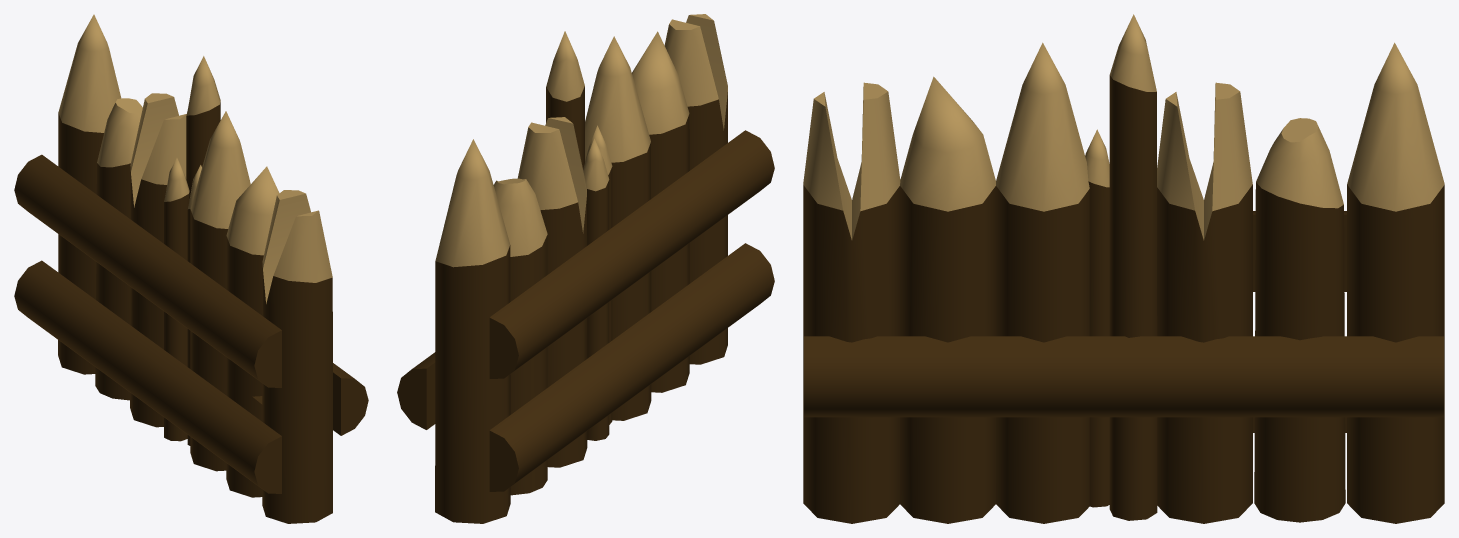
File: SM_GoblinCamp_Fence_Var1.fbx
The picture shows the model from 3 angles, left to right: view 1: azimuth 30°, elevation 25°; view 2: azimuth 150°, elevation 25°; view 3: azimuth 270°, elevation 25°; orthographic projection. The views are drawn at different scales.
Visible parts, largest first — view 1: SM_GoblinCamp_Fence_Var1; view 2: SM_GoblinCamp_Fence_Var1; view 3: SM_GoblinCamp_Fence_Var1.
Part boxes in pixels (<box>): SM_GoblinCamp_Fence_Var1: <box>14,14,368,523</box>; SM_GoblinCamp_Fence_Var1: <box>397,14,774,523</box>; SM_GoblinCamp_Fence_Var1: <box>803,14,1444,523</box>.
Bounding box in the file's own units: 54.99 × 171 × 201.
